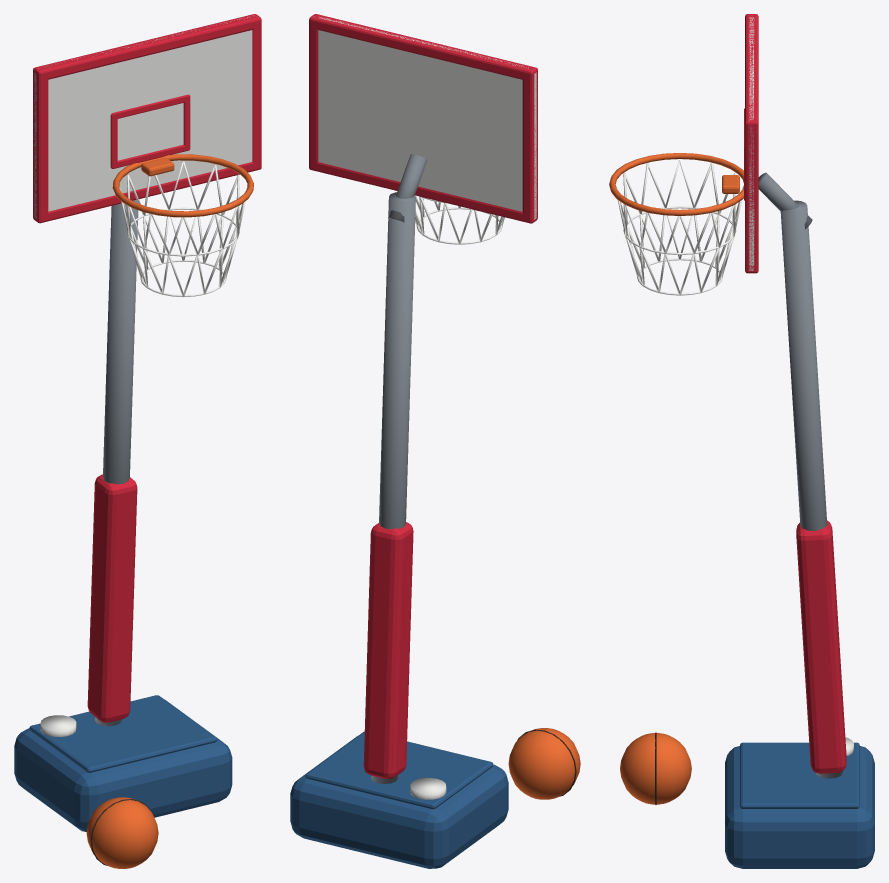
File: streetballHoop.glb
The picture shows the model from 3 angles, left to right: view 1: azimuth 30°, elevation 25°; view 2: azimuth 150°, elevation 25°; view 3: azimuth 270°, elevation 25°; orthographic projection.
Parts seen in each view (by area): view 1: body, net; view 2: body, net; view 3: body, net.
Boxes of the visible parts, box(x1,y1,x2,y2) form: body: box(14, 14, 261, 868); net: box(119, 161, 246, 297); body: box(290, 14, 580, 868); net: box(415, 195, 504, 244); body: box(609, 14, 874, 868); net: box(616, 160, 743, 295).
Bounding box in the file's own units: 0.86 × 2.83 × 0.886.
